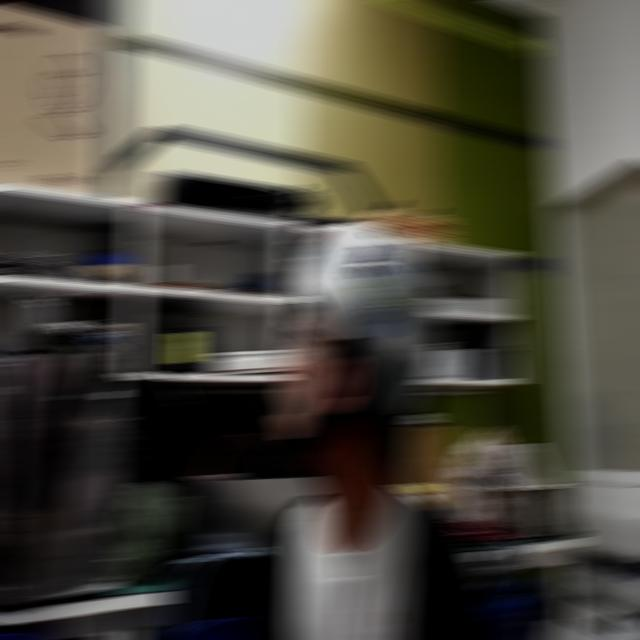With Helmet: (258, 151, 471, 534)
